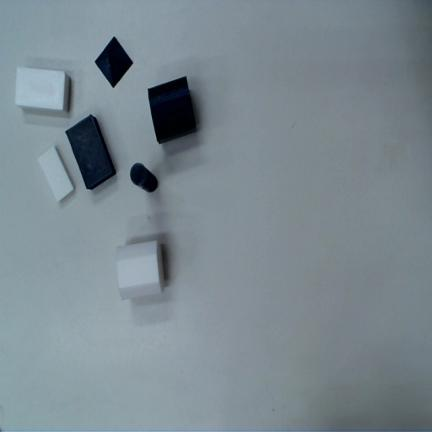Cilindro: (130, 163, 158, 193)
Paralelepipedo: (65, 114, 117, 190), (15, 67, 70, 112), (38, 145, 75, 202)
Piramide: (95, 37, 132, 88)
Prisma_hexagonal: (148, 75, 197, 145), (116, 240, 163, 299)
